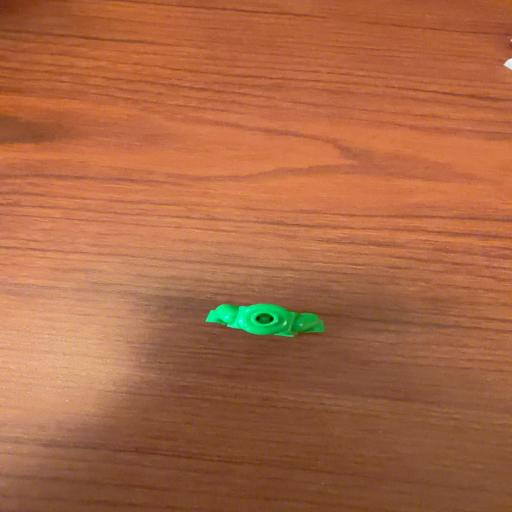UnoQ-minifig-detector: (206, 303, 324, 337)
